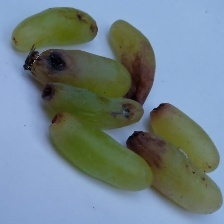grapes: (32, 29, 221, 170)
